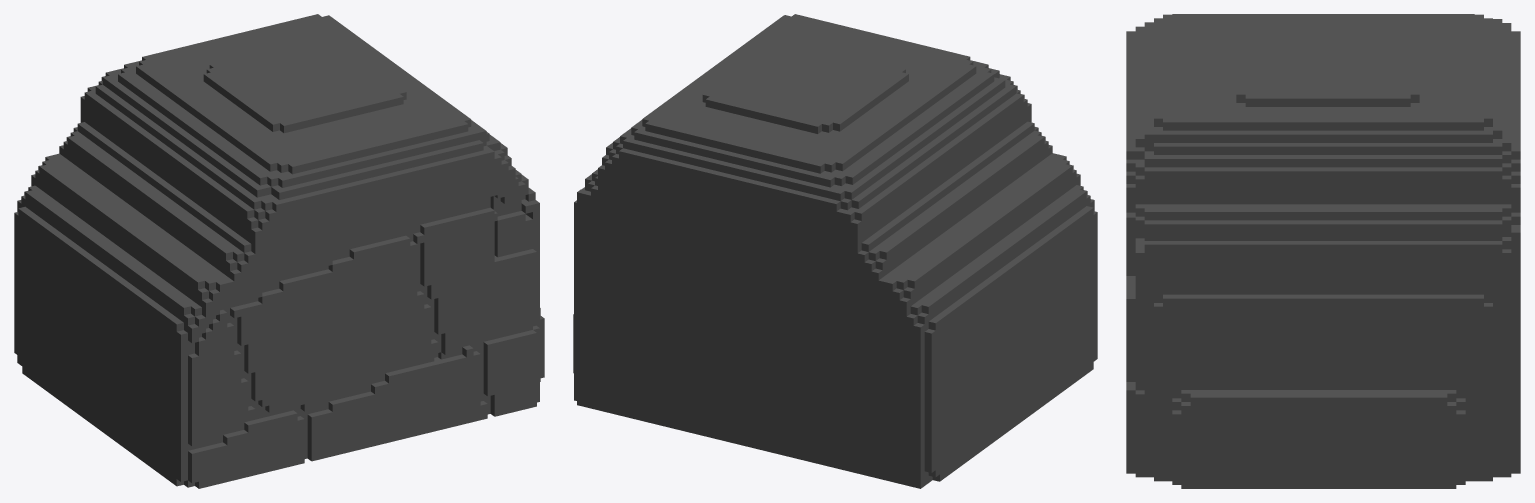
File: roca.glb
3 renders of one model, left to right at view 1: azimuth 30°, elevation 25°; view 2: azimuth 150°, elevation 25°; view 3: azimuth 270°, elevation 25°, orthographic. The views are drawn at different scales.
Parts seen in each view (by area): view 1: Node1; view 2: Node1; view 3: Node1.
Boxes of the visible parts, x1=… form: Node1: x1=14, y1=14, x2=544, y2=488; Node1: x1=573, y1=14, x2=1097, y2=488; Node1: x1=1126, y1=14, x2=1520, y2=488.
Bounding box in the file's own units: 5.4 × 4 × 4.3.
Materials: 1 (1 with a texture image).
